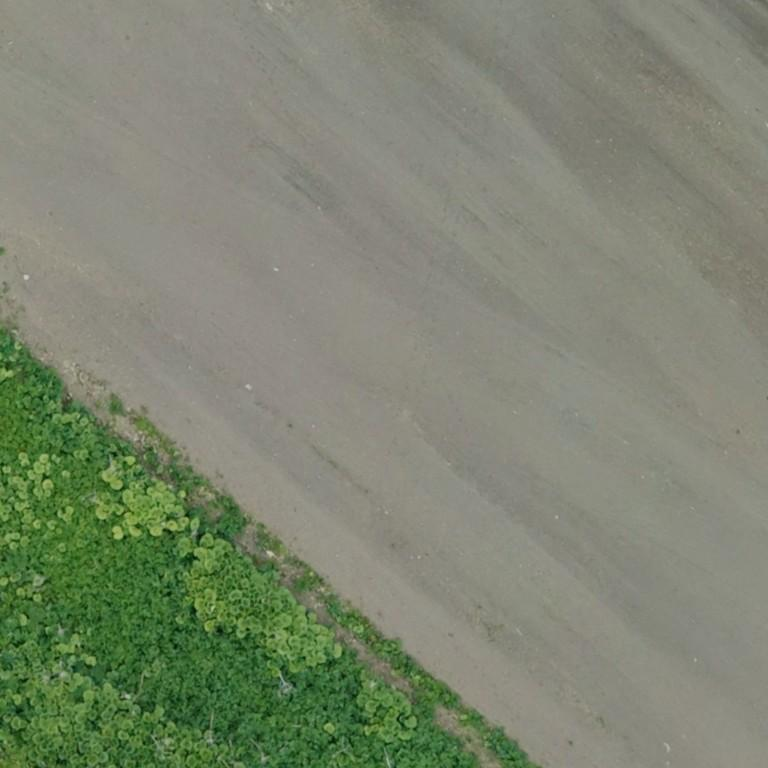hogweed: (39, 459, 481, 767), (0, 383, 45, 453), (487, 731, 534, 767)
